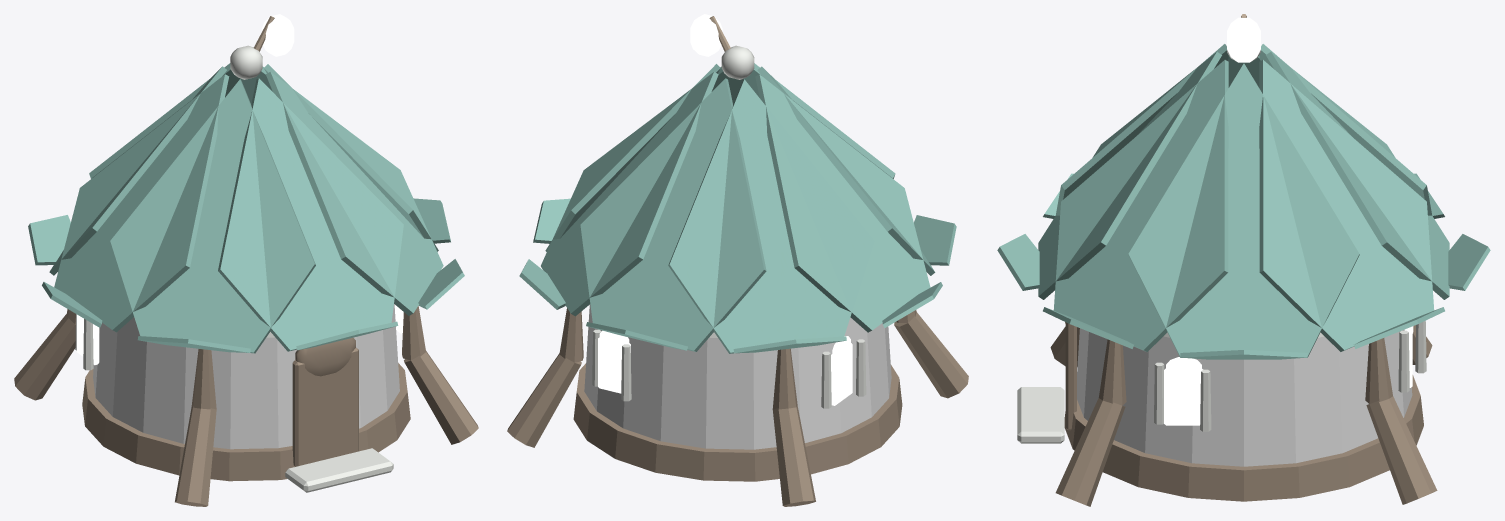
File: prop_elf_hut.glb
The picture shows the model from 3 angles, left to right: view 1: azimuth 30°, elevation 25°; view 2: azimuth 150°, elevation 25°; view 3: azimuth 270°, elevation 25°; orthographic projection. The views are drawn at different scales.
Visible parts, largest first — view 1: prop_elf_hut; view 2: prop_elf_hut; view 3: prop_elf_hut.
Boxes of the visible parts, <box> form: prop_elf_hut: <box>14,14,478,506</box>; prop_elf_hut: <box>507,14,968,506</box>; prop_elf_hut: <box>997,14,1490,506</box>.
Bounding box in the file's own units: 5.23 × 5.07 × 5.23.
